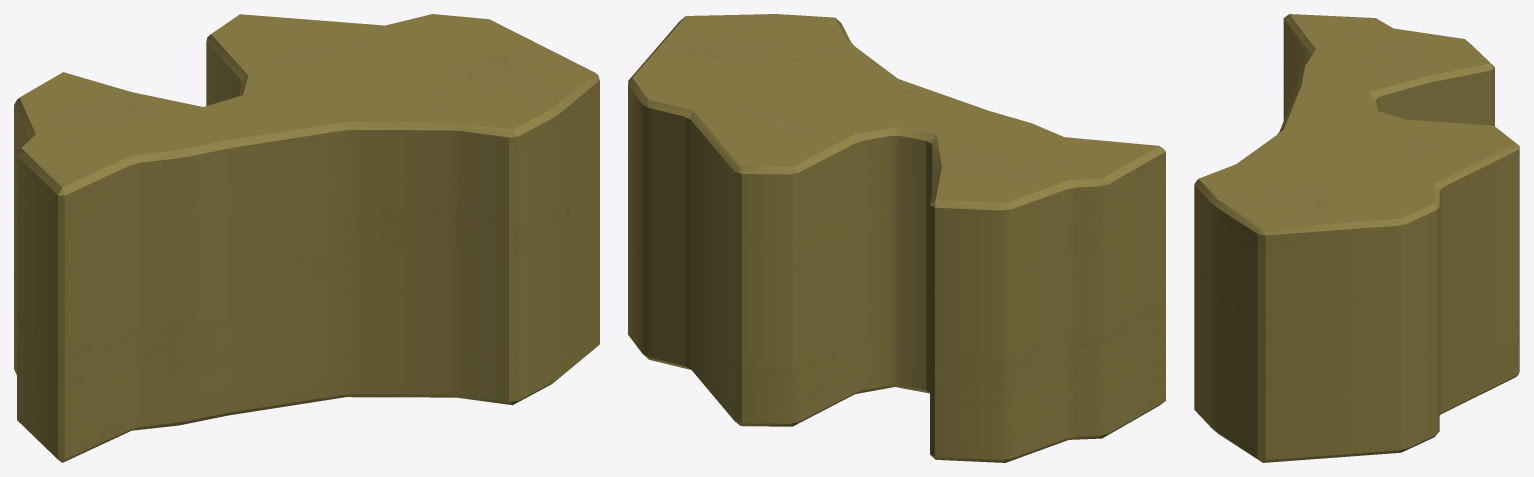
File: latvia.DAE
The picture shows the model from 3 angles, left to right: view 1: azimuth 30°, elevation 25°; view 2: azimuth 150°, elevation 25°; view 3: azimuth 270°, elevation 25°; orthographic projection. The views are drawn at different scales.
Visible parts, largest first — view 1: Latvia; view 2: Latvia; view 3: Latvia.
Boxes of the visible parts, x1=… form: Latvia: x1=14, y1=14, x2=599, y2=462; Latvia: x1=628, y1=14, x2=1165, y2=462; Latvia: x1=1194, y1=14, x2=1519, y2=462.
Size of the model in its own units: 50.16 by 31.49 by 25.
1 material, 1 textured.
